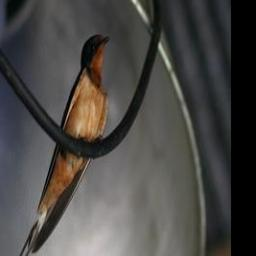Swallow: (10, 27, 114, 256)
